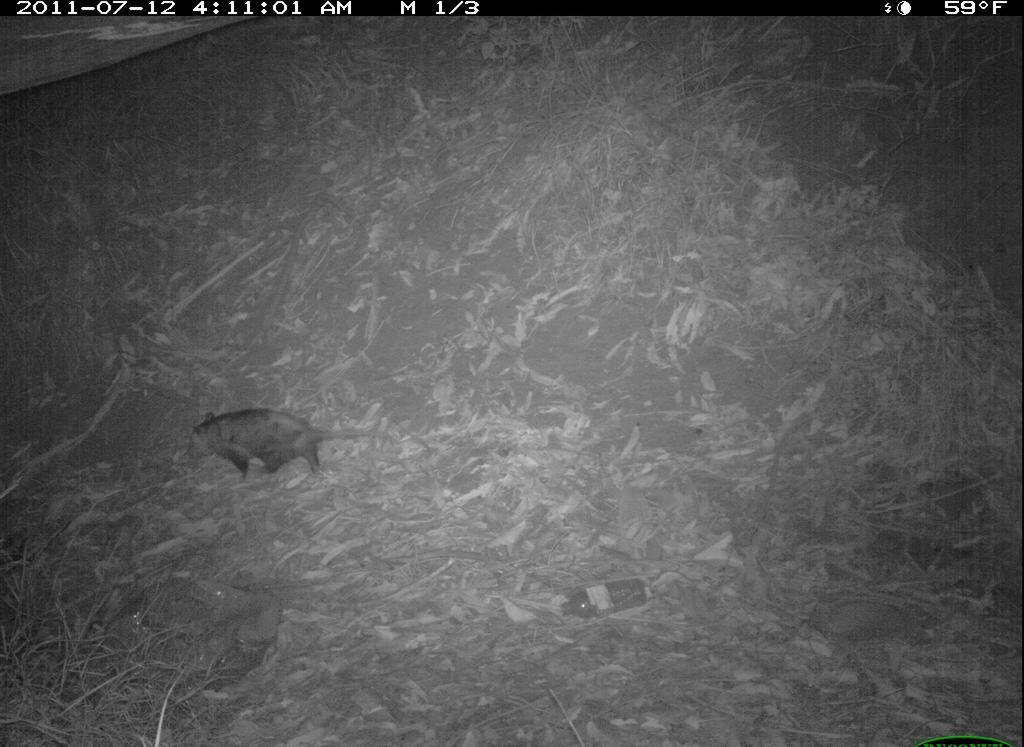opossum: (185, 400, 434, 493)
